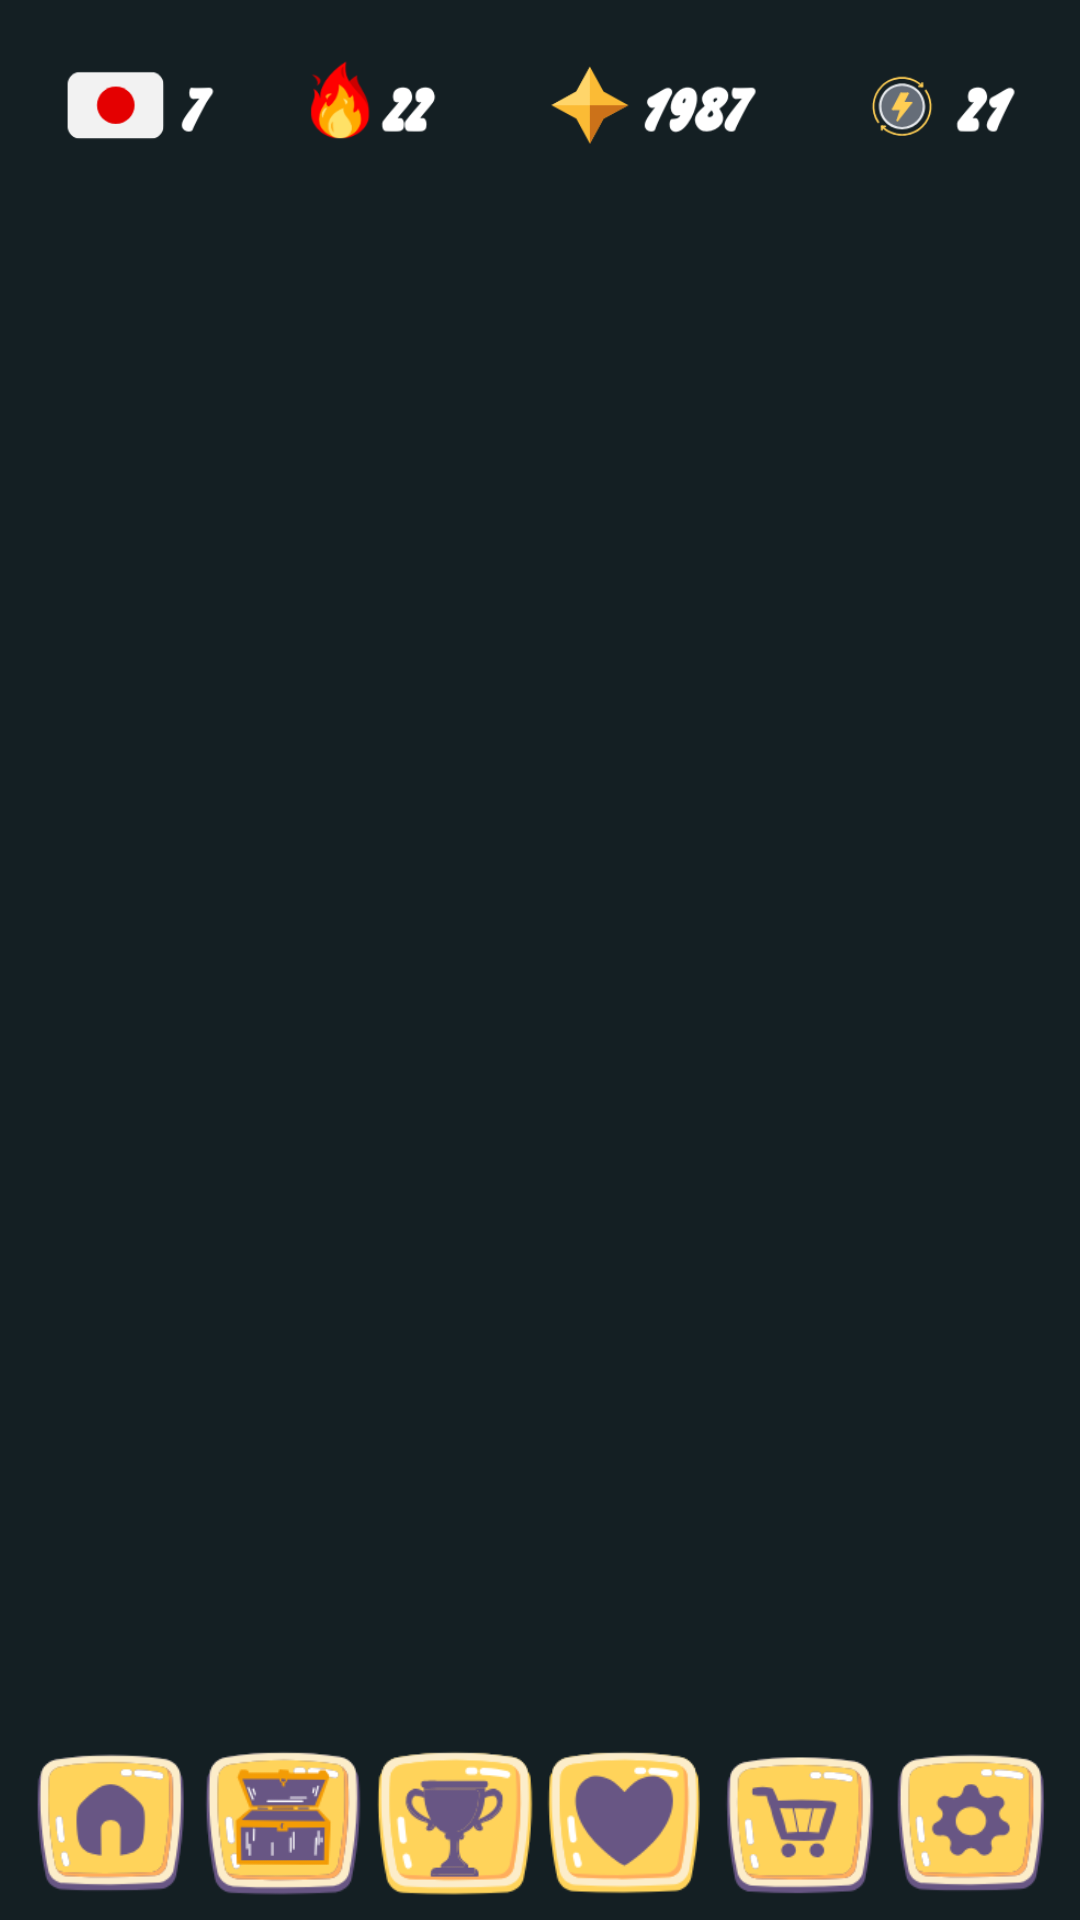

Where to tap for icons on this 1080 × 1920 app screen, as [x,y]:
chest: [283,1823]
heart: [624,1822]
settings: [970,1822]
shop: [800,1825]
trophy: [455,1823]
